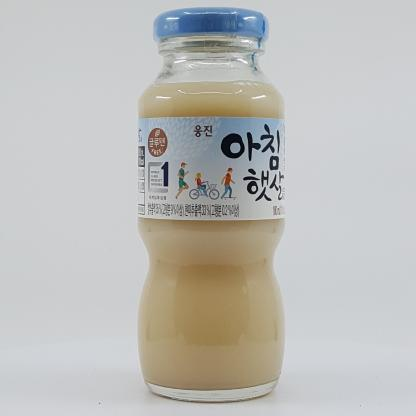------180ML: (138, 7, 285, 402)
